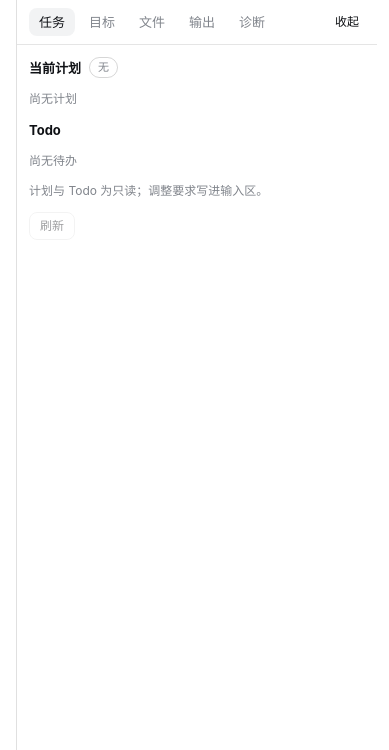
detail panel › renders the latest review with per-criterion evidence
Click the tab "目标" at [102, 22], box x1=79 y1=8 x2=125 y2=36
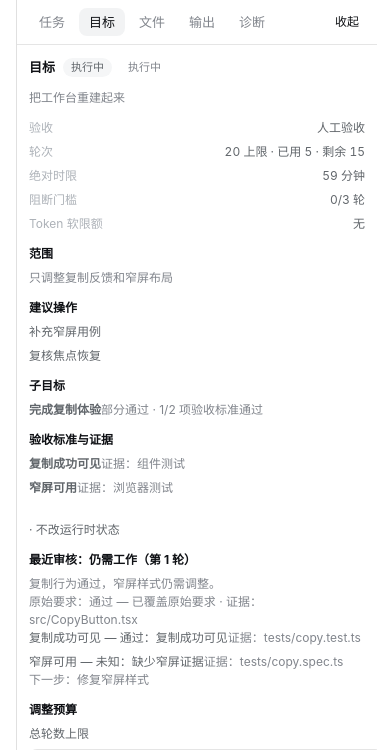
Expected: the heading "最近审核：仍需工作（第 1 轮）" is shown, x1=29 y1=552 x2=196 y2=567
Expected: the list item "缺少窄屏证据" is shown, x1=132 y1=654 x2=204 y2=669
Expected: the text "证据：tests/copy.spec.ts" is shown, x1=204 y1=654 x2=343 y2=669
